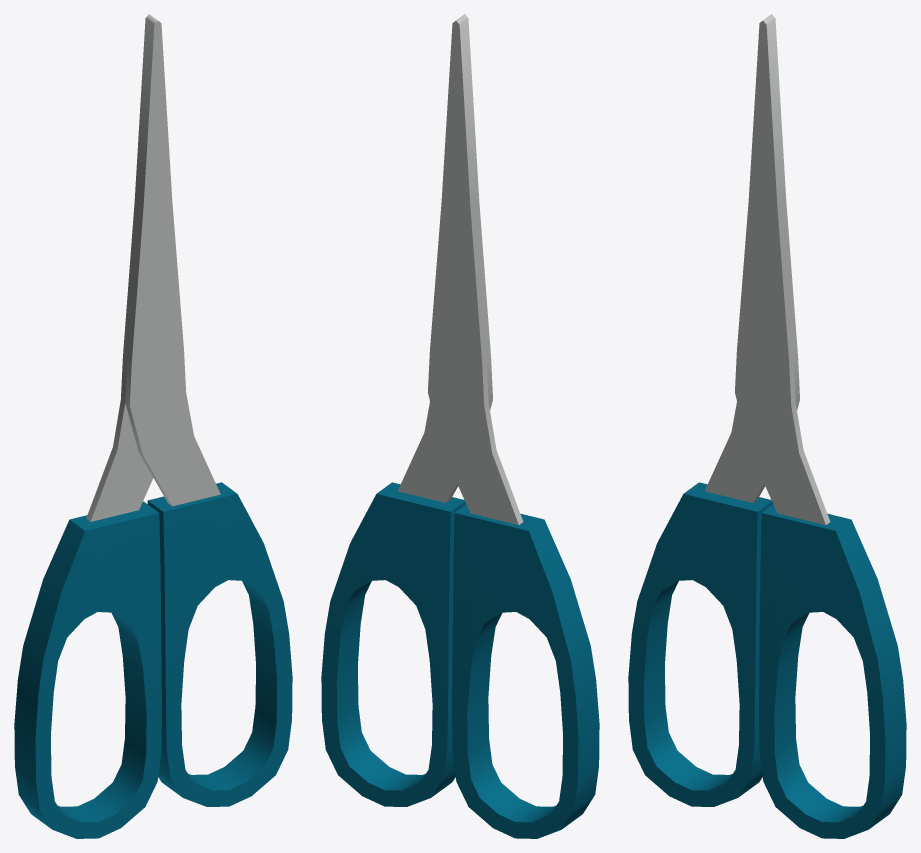
Rendered from Scissors.fbx.
3 views of the same model, side by side, from view 1: azimuth 30°, elevation 25°; view 2: azimuth 150°, elevation 25°; view 3: azimuth 330°, elevation 25° (orthographic).
Parts seen in each view (by area): view 1: Scissors1_Scissors1_0.001; view 2: Scissors1_Scissors1_0.001; view 3: Scissors1_Scissors1_0.001.
Part boxes in pixels (x1,y1,x2,y2): Scissors1_Scissors1_0.001: (14, 14, 292, 838); Scissors1_Scissors1_0.001: (321, 14, 599, 838); Scissors1_Scissors1_0.001: (628, 14, 906, 838).
Size of the model in its own units: 10.32 by 30.58 by 1.48.
